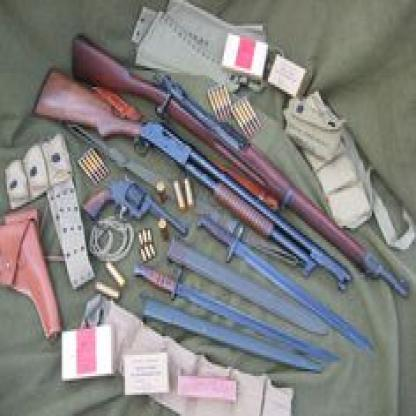Gun: (71, 31, 409, 300), (32, 67, 352, 295)
Knife: (194, 211, 376, 354), (132, 263, 341, 365)
Pistol: (80, 173, 188, 237)
